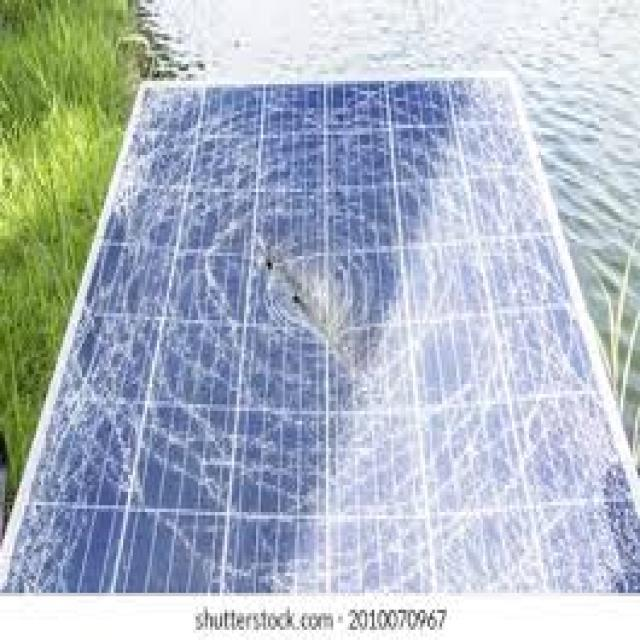faulty: (0, 75, 640, 603)
